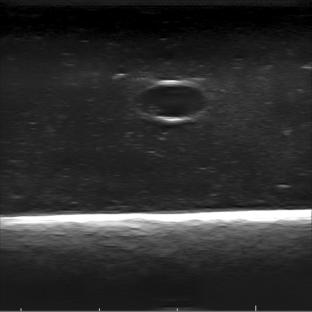vessel: (134, 78, 207, 122)
